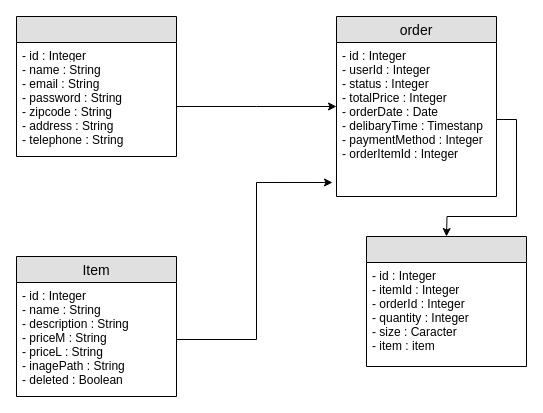
The diagram is 543 pixels wide and 413 high, and some of its shapes have lost their labels. Here are the shapes that lost their labels. From the top down, the box of each, then its label:
(16, 16, 176, 156): User
(366, 236, 526, 366): OrderItem
